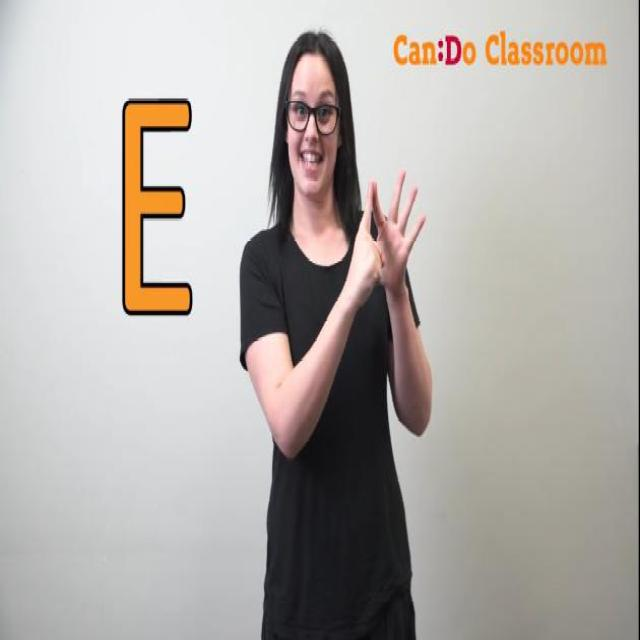E: (341, 150, 432, 352)
